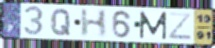3: (23, 4, 45, 38)
6: (111, 9, 132, 39)
H: (79, 8, 109, 39)
M: (138, 10, 168, 41)
Q: (50, 7, 72, 36)
Z: (167, 12, 193, 42)
